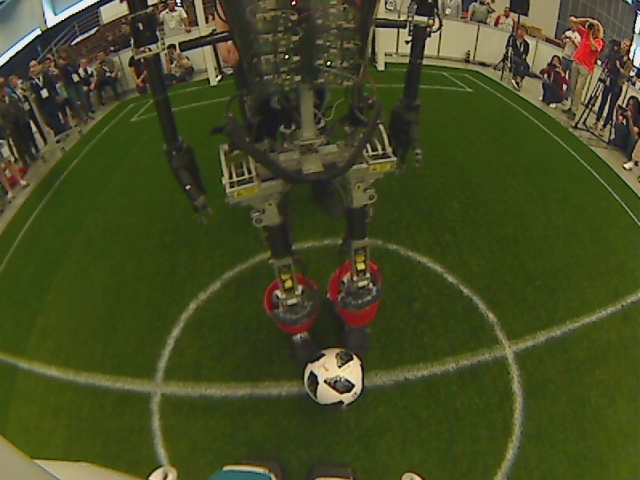ball: (299, 346, 368, 409)
